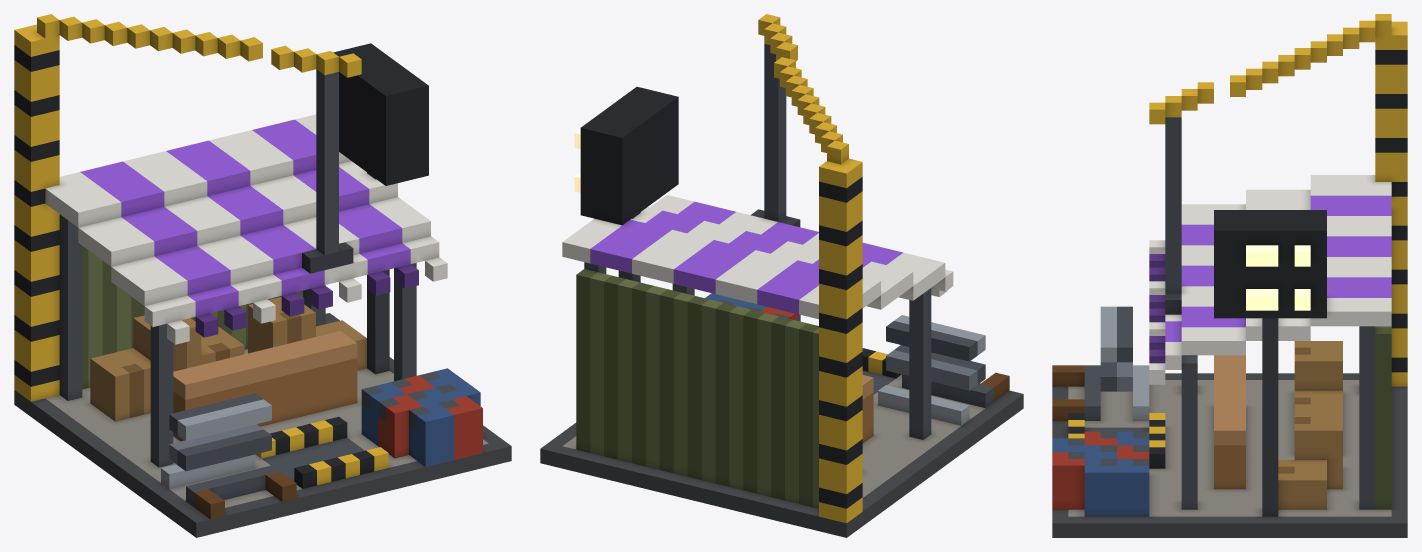
The model's file is cm_market_4.glb.
3 renders of one model, left to right at view 1: azimuth 30°, elevation 25°; view 2: azimuth 150°, elevation 25°; view 3: azimuth 270°, elevation 25°, orthographic. The views are drawn at different scales.
Parts seen in each view (by area): view 1: cm_market_4_body; view 2: cm_market_4_body; view 3: cm_market_4_body.
Part boxes in pixels (x1,y1,x2,y2): cm_market_4_body: [14, 14, 511, 537]; cm_market_4_body: [540, 14, 1023, 537]; cm_market_4_body: [1052, 14, 1407, 537].
Bounding box in the file's own units: 1.44 × 1.62 × 1.38.
Materials: 1 (1 with a texture image).
